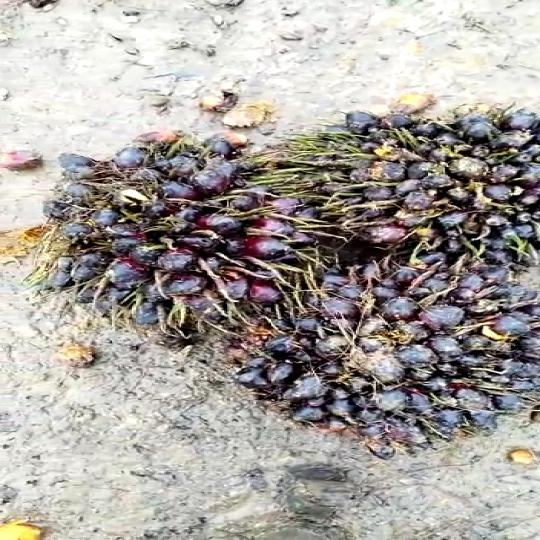mentah: (225, 246, 540, 468), (50, 144, 322, 343), (283, 89, 540, 269)
